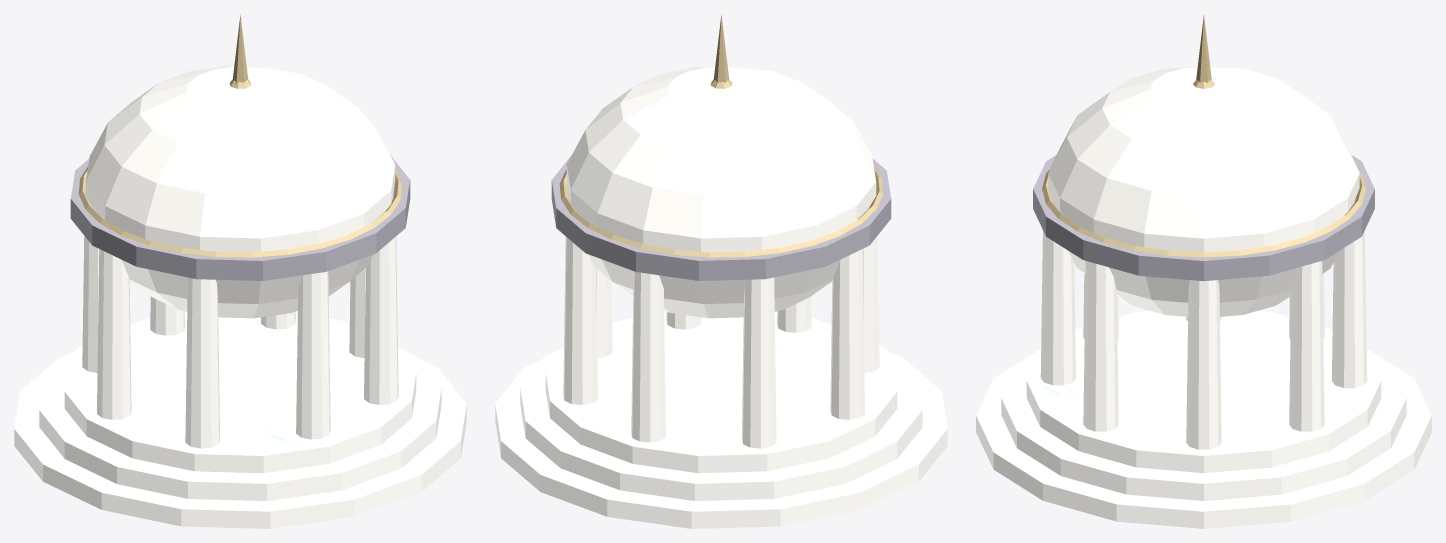
Rendered from prop_white_dome_pavilion.glb.
3 views of the same model, side by side, from view 1: azimuth 30°, elevation 25°; view 2: azimuth 150°, elevation 25°; view 3: azimuth 270°, elevation 25° (orthographic).
Parts seen in each view (by area): view 1: prop_white_dome_pavilion_pearl, prop_white_dome_pavilion_shadow, prop_white_dome_pavilion_gold, prop_white_dome_pavilion_jade; view 2: prop_white_dome_pavilion_pearl, prop_white_dome_pavilion_shadow, prop_white_dome_pavilion_gold, prop_white_dome_pavilion_jade; view 3: prop_white_dome_pavilion_pearl, prop_white_dome_pavilion_shadow, prop_white_dome_pavilion_gold, prop_white_dome_pavilion_jade.
Part boxes in pixels (x1=…): prop_white_dome_pavilion_pearl: x1=14, y1=65, x2=466, y2=528; prop_white_dome_pavilion_shadow: x1=70, y1=155, x2=410, y2=280; prop_white_dome_pavilion_gold: x1=78, y1=14, x2=402, y2=257; prop_white_dome_pavilion_jade: x1=266, y1=410, x2=341, y2=443; prop_white_dome_pavilion_pearl: x1=495, y1=65, x2=947, y2=528; prop_white_dome_pavilion_shadow: x1=551, y1=155, x2=891, y2=280; prop_white_dome_pavilion_gold: x1=559, y1=14, x2=883, y2=257; prop_white_dome_pavilion_jade: x1=774, y1=317, x2=822, y2=351; prop_white_dome_pavilion_pearl: x1=976, y1=66, x2=1431, y2=528; prop_white_dome_pavilion_shadow: x1=1033, y1=155, x2=1374, y2=281; prop_white_dome_pavilion_gold: x1=1042, y1=15, x2=1365, y2=257; prop_white_dome_pavilion_jade: x1=1039, y1=362, x2=1084, y2=396.
Bounding box in the file's own units: 7.2 × 7.3 × 7.2.
